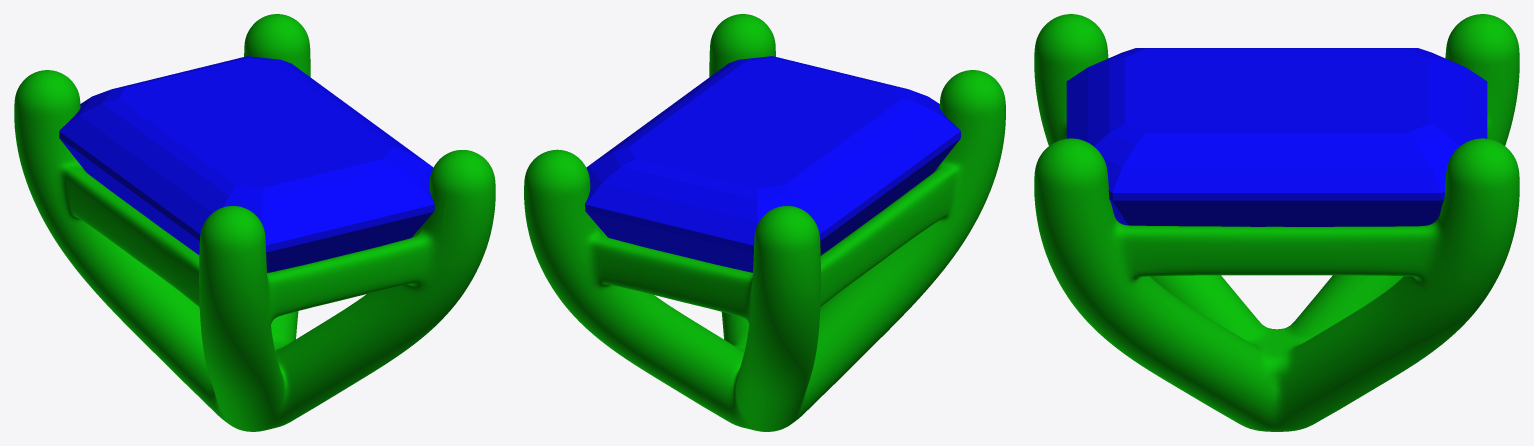
3 renders of one model, left to right at view 1: azimuth 30°, elevation 25°; view 2: azimuth 150°, elevation 25°; view 3: azimuth 270°, elevation 25°, orthographic. The views are drawn at different scales.
Parts seen in each view (by area): view 1: Metal01, Diamond_Emerald; view 2: Metal01, Diamond_Emerald; view 3: Metal01, Diamond_Emerald.
Boxes of the visible parts, x1,y1,x2,y2 form: Metal01: (14, 14, 495, 431); Diamond_Emerald: (59, 56, 434, 272); Metal01: (524, 14, 1005, 431); Diamond_Emerald: (585, 56, 960, 272); Metal01: (1034, 14, 1519, 431); Diamond_Emerald: (1066, 48, 1487, 226).
Bounding box in the file's own units: 5.32 × 5.43 × 7.02.
